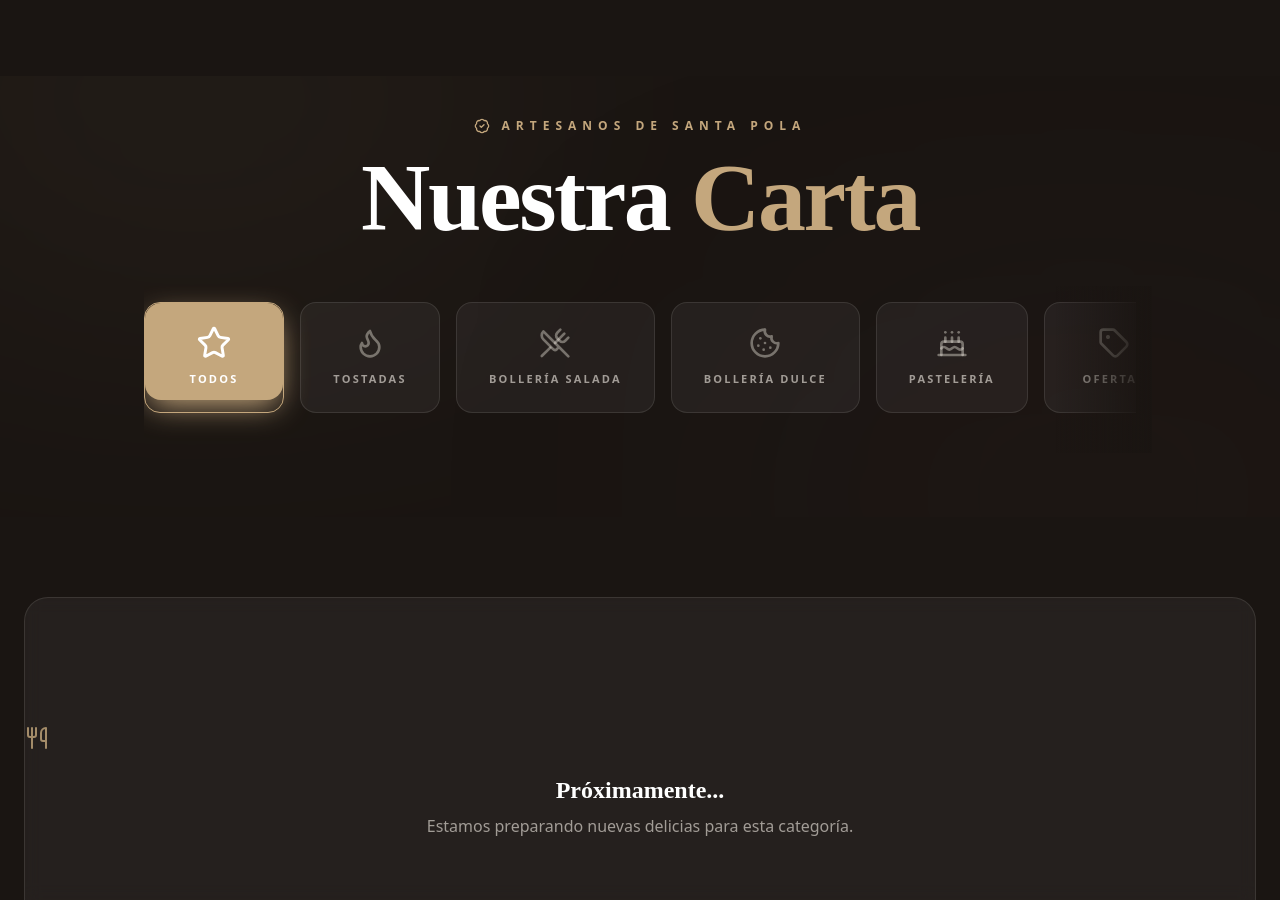
Menu Integration › mantiene visible el titulo de la categoria cuando se filtra una categoria concreta
This screenshot has width=1280, height=900.
Press the mouse on the button "Tostadas" at (370, 357), box [300,302,440,412]
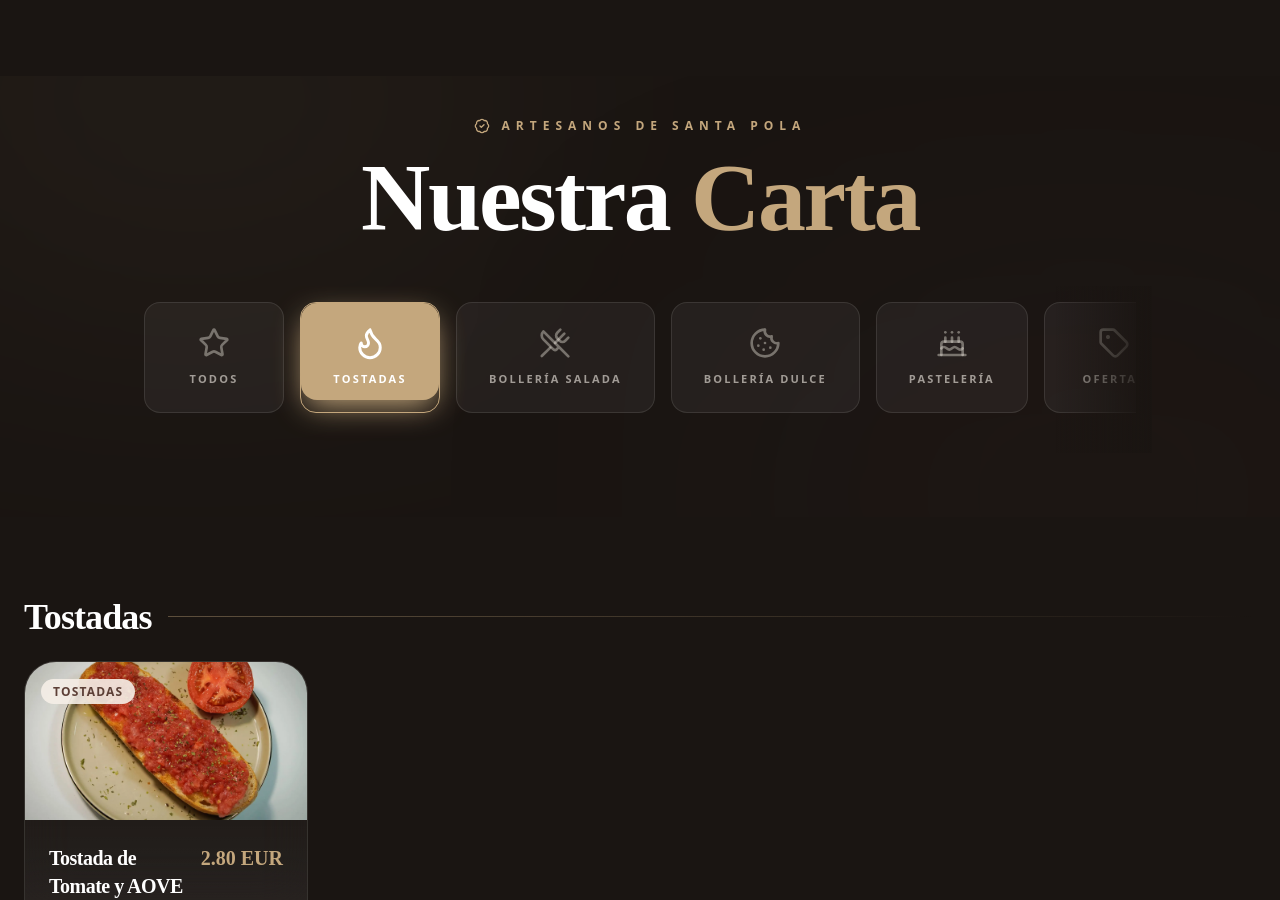
Now the heading "Tostadas" is shown, box [24,596,152,636]
Now the heading "Tostada de Tomate y AOVE" is shown, box [49,844,185,899]
